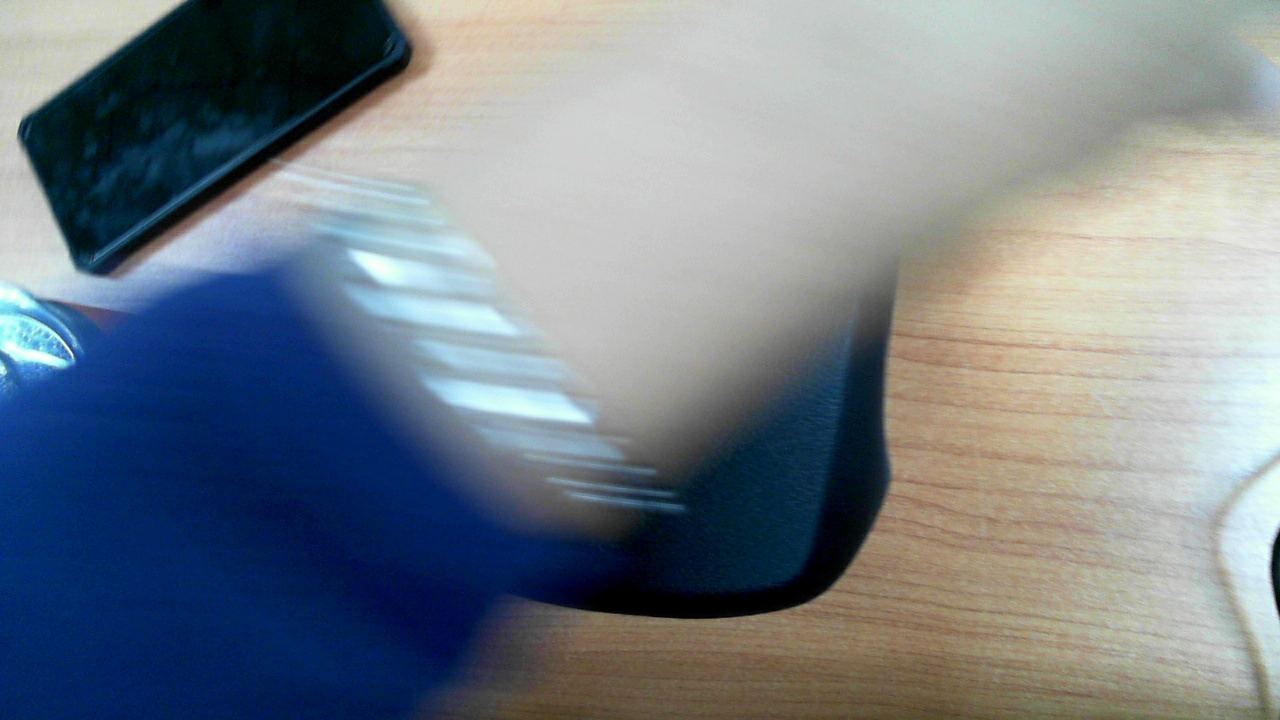Airbag: (315, 246, 941, 615)
